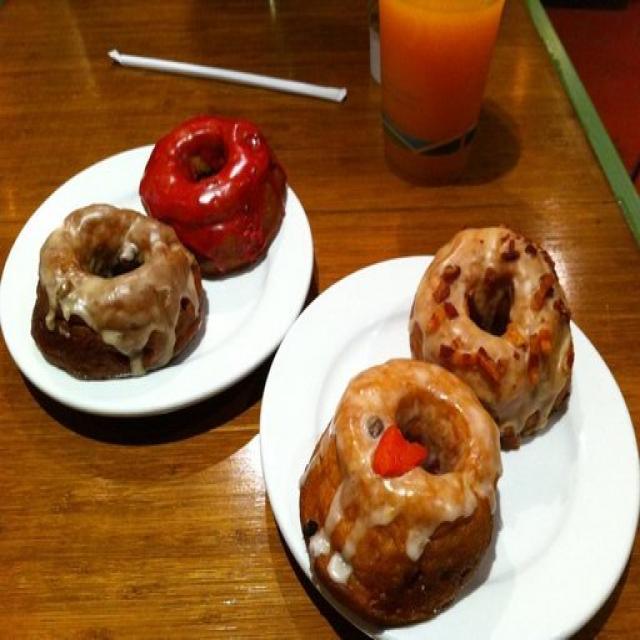Donuts: (294, 223, 588, 640), (15, 106, 295, 396)
